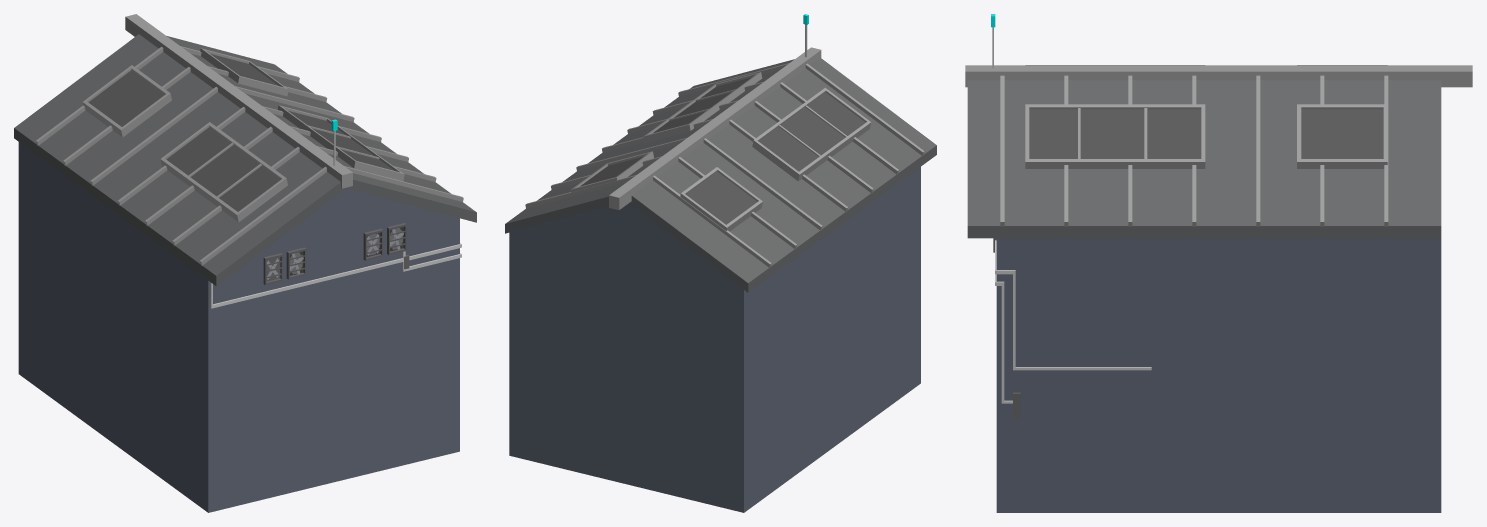
File: NorthWest_Warehouse_01.fbx
3 renders of one model, left to right at view 1: azimuth 30°, elevation 25°; view 2: azimuth 150°, elevation 25°; view 3: azimuth 270°, elevation 25°, orthographic. The views are drawn at different scales.
Parts seen in each view (by area): view 1: NorthWest_Warehouse_01; view 2: NorthWest_Warehouse_01; view 3: NorthWest_Warehouse_01.
Boxes of the visible parts, x1=… form: NorthWest_Warehouse_01: x1=14, y1=14, x2=476, y2=512; NorthWest_Warehouse_01: x1=505, y1=14, x2=936, y2=512; NorthWest_Warehouse_01: x1=965, y1=14, x2=1472, y2=512.
Size of the model in its own units: 23.78 by 31.45 by 34.02.
